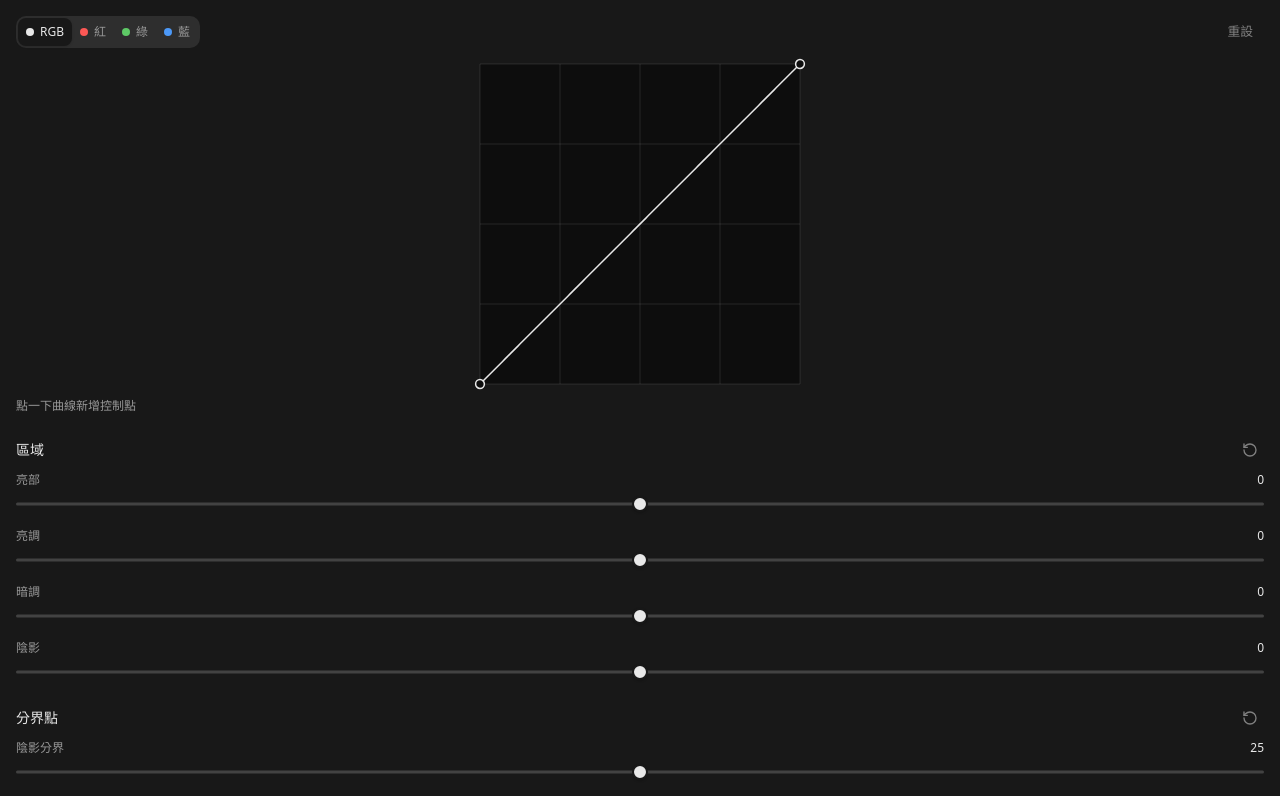
Test: CurvePanel › adds a point and drags it as one undo step
Press the mouse on the picture at (640, 224), box [480,64,800,384]
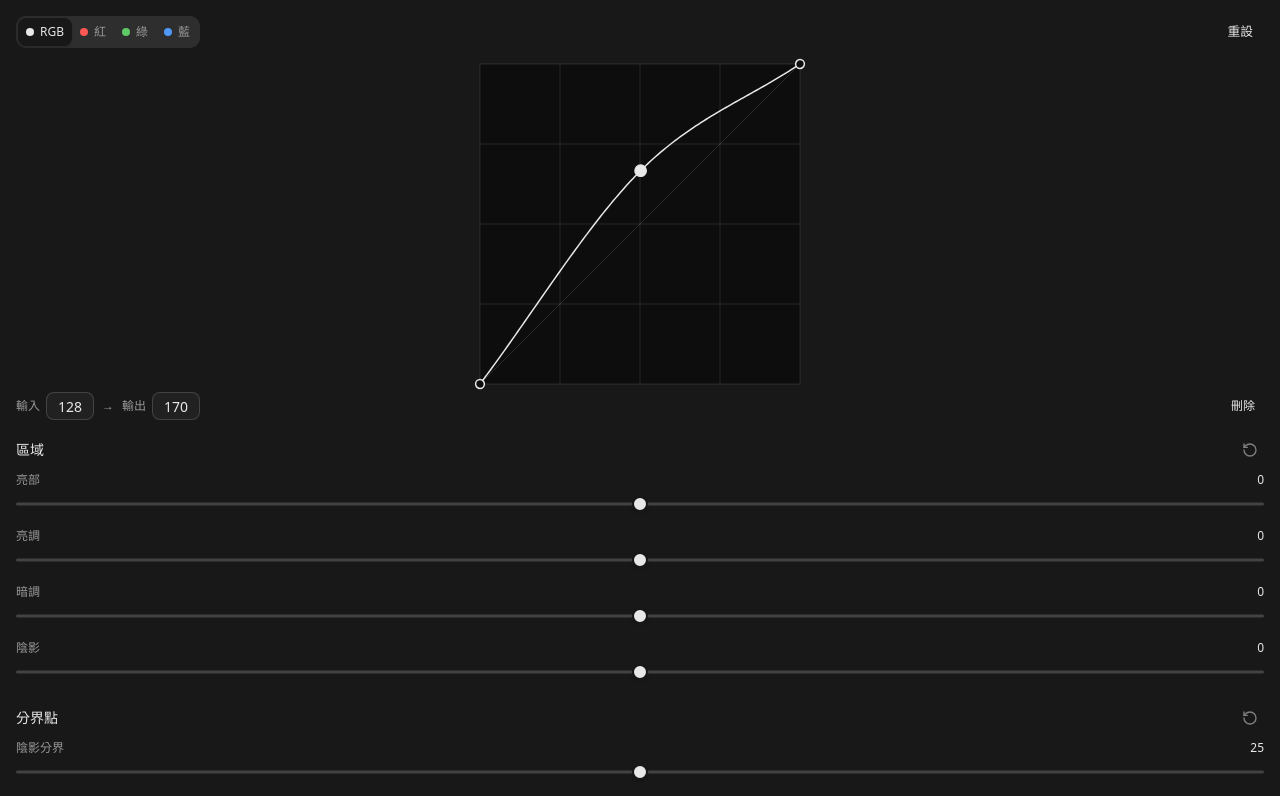
Expected: the field labelled "輸出" holds "170", [152,392,200,420]
